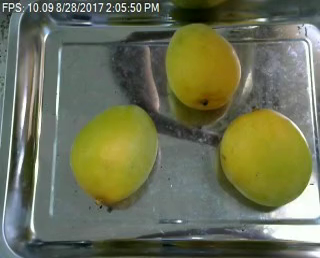Mango: (66, 103, 165, 205), (218, 106, 310, 210), (163, 18, 241, 110)
